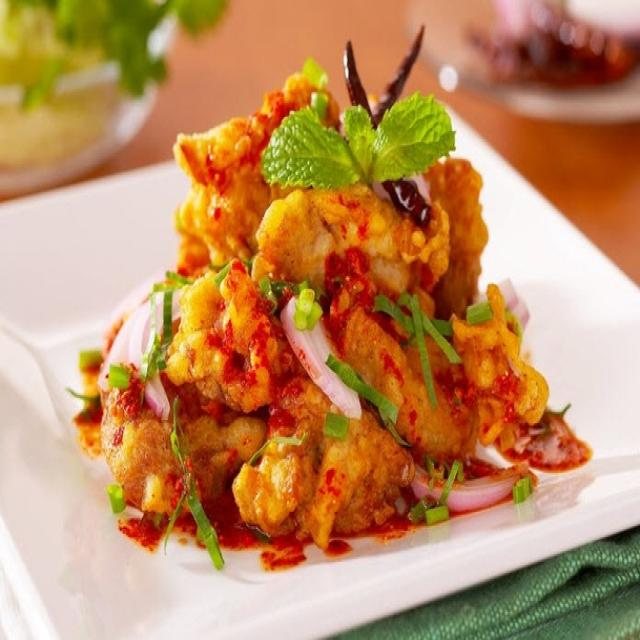鸡肉料理 含炸鸡: (83, 53, 578, 565)
